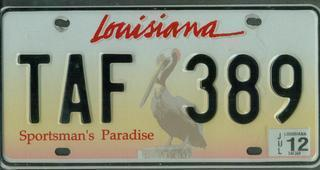placa de veiculo: (6, 5, 315, 165)
